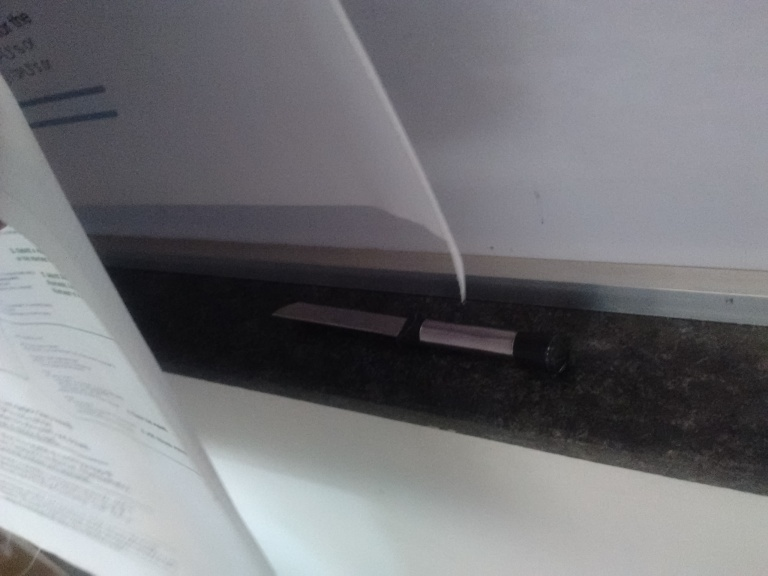knife: (266, 294, 575, 374)
